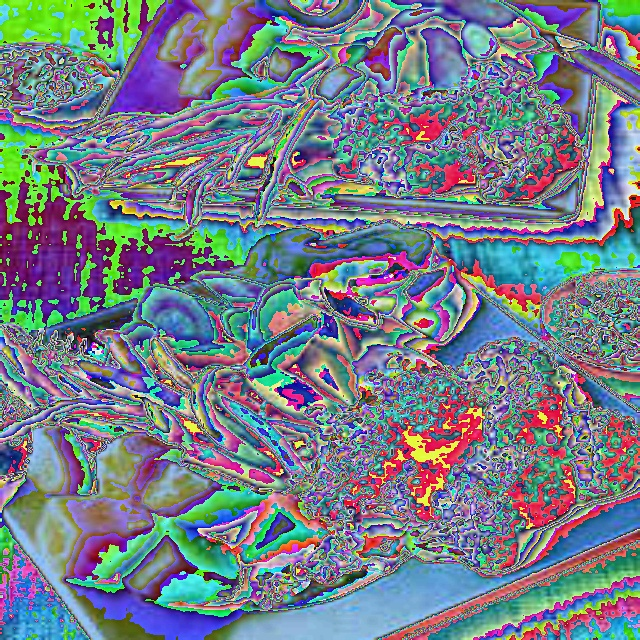background: (0, 223, 640, 609), (20, 0, 585, 241)
